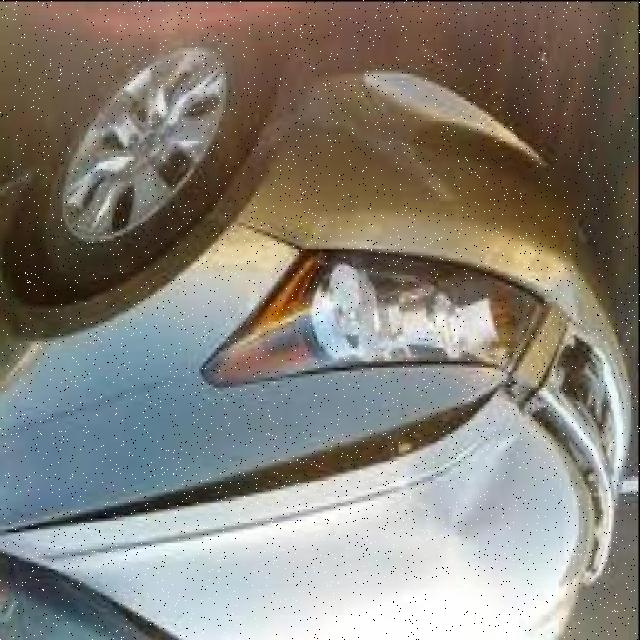damage: (2, 370, 528, 543), (244, 38, 469, 211), (505, 363, 618, 577)
